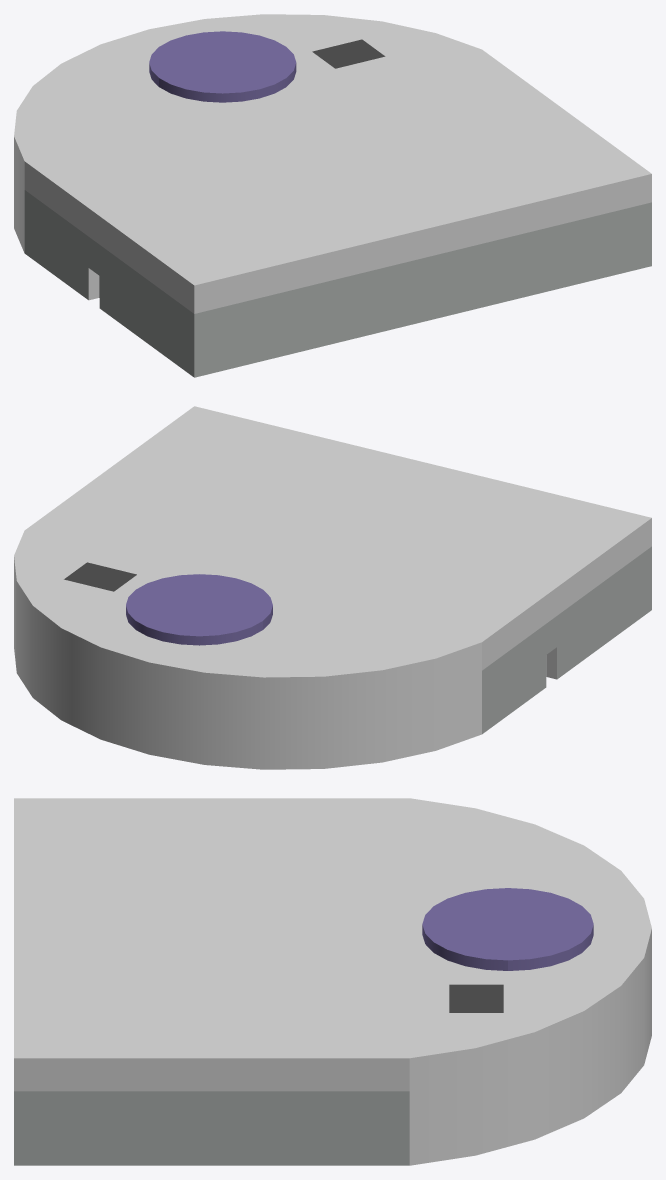
Rendered from neato.dae.
3 views of the same model, one above another, from view 1: azimuth 30°, elevation 25°; view 2: azimuth 150°, elevation 25°; view 3: azimuth 270°, elevation 25° (orthographic). The views are drawn at different scales.
Parts seen in each view (by area): view 1: SketchUp (×5); view 2: SketchUp (×5); view 3: SketchUp (×5).
Boxes of the visible parts, x1,y1,x2,y2 form: SketchUp (×5): (14, 14, 651, 377); SketchUp (×5): (14, 406, 651, 769); SketchUp (×5): (14, 798, 651, 1165).
Size of the model in its own units: 13.29 by 13.78 by 2.81.
